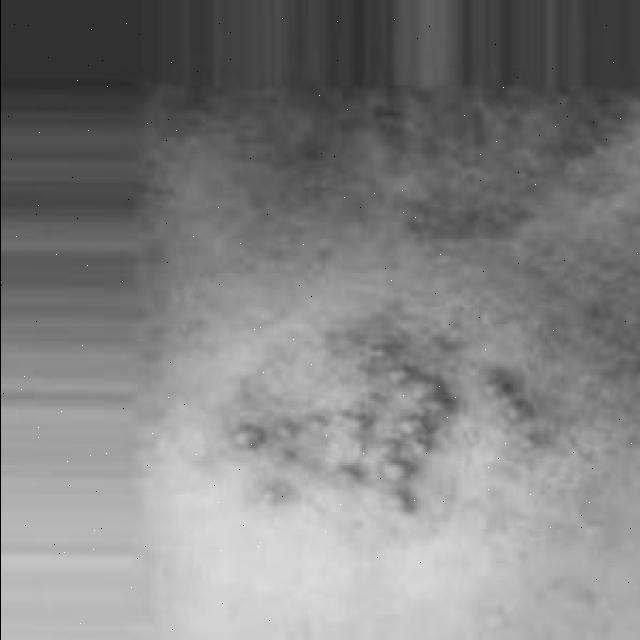Shingles: (215, 334, 532, 524)
